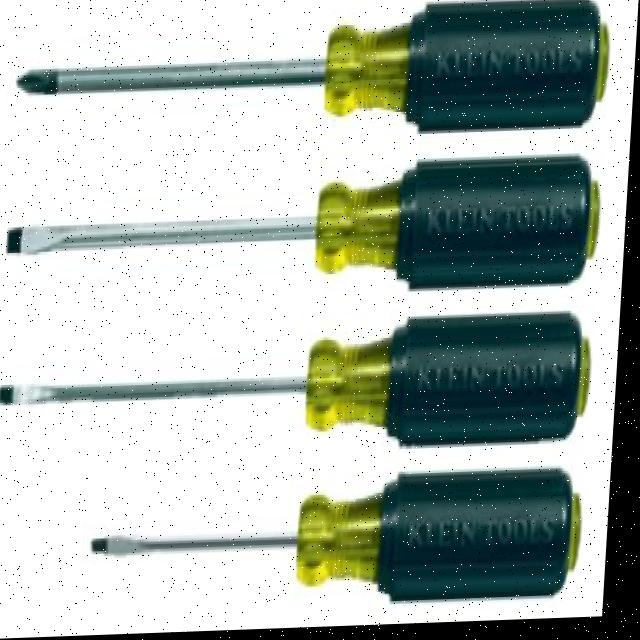Screwdriver: (11, 161, 603, 291), (21, 5, 608, 135), (6, 318, 595, 447), (99, 474, 588, 604)
